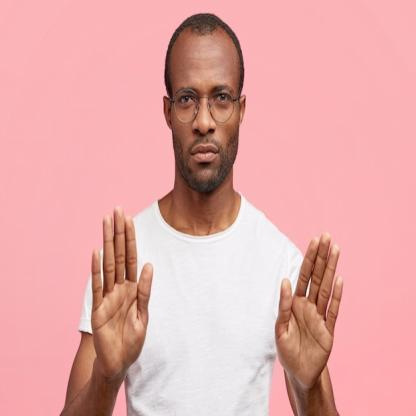stop: (88, 204, 156, 391), (274, 226, 344, 390)
